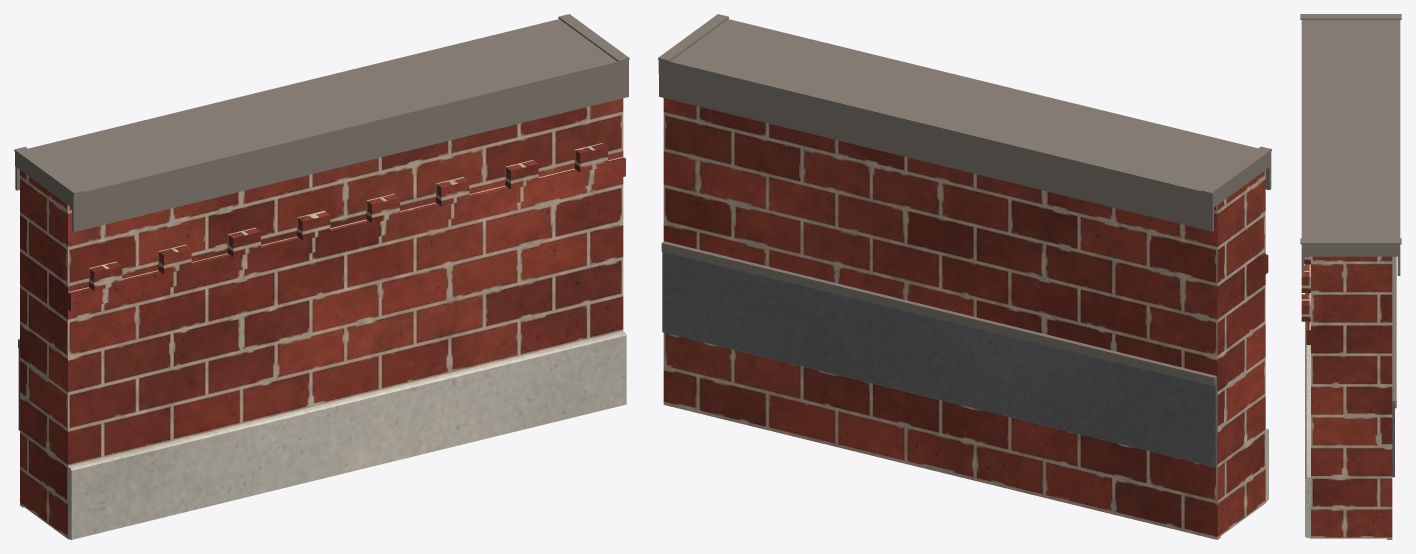
The model's file is parapet.glb.
The picture shows the model from 3 angles, left to right: view 1: azimuth 30°, elevation 25°; view 2: azimuth 150°, elevation 25°; view 3: azimuth 270°, elevation 25°; orthographic projection. The views are drawn at different scales.
Visible parts, largest first — view 1: parapet_brick, parapet_alu, parapet_precast; view 2: parapet_brick, parapet_alu, parapet_membrane; view 3: parapet_alu, parapet_brick, parapet_precast, parapet_membrane.
Part boxes in pixels (x1,y1,x2,y2): parapet_brick: [20, 98, 625, 538]; parapet_alu: [14, 14, 629, 347]; parapet_precast: [68, 331, 626, 539]; parapet_brick: [663, 98, 1268, 539]; parapet_alu: [658, 14, 1271, 386]; parapet_membrane: [662, 252, 1217, 466]; parapet_alu: [1300, 14, 1401, 408]; parapet_brick: [1301, 256, 1392, 539]; parapet_precast: [1305, 264, 1310, 538]; parapet_membrane: [1392, 403, 1394, 477].
Bounding box in the file's own units: 2 × 1.21 × 0.375.
Materials: 4 (3 with a texture image).
